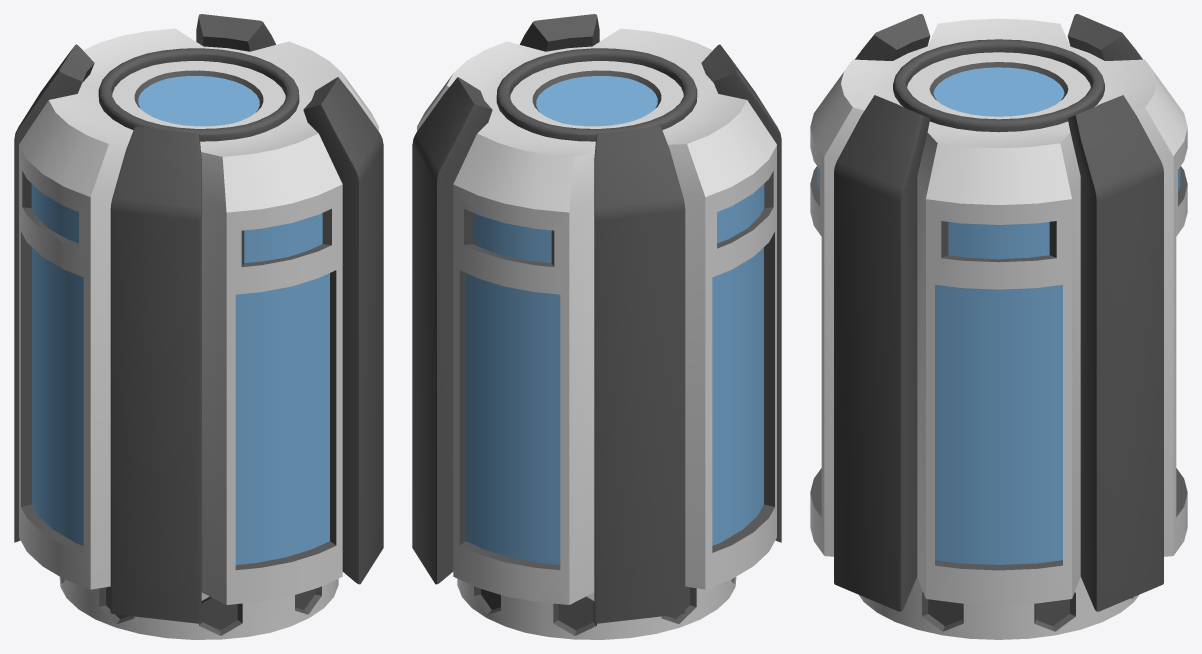
The model's file is augment_container.glb.
3 renders of one model, left to right at view 1: azimuth 30°, elevation 25°; view 2: azimuth 150°, elevation 25°; view 3: azimuth 270°, elevation 25°, orthographic.
Visible parts, largest first — view 1: AugmentContainer; view 2: AugmentContainer; view 3: AugmentContainer.
Boxes of the visible parts, box(x1,y1,x2,y2) form: AugmentContainer: box(14, 14, 383, 639); AugmentContainer: box(412, 14, 781, 639); AugmentContainer: box(810, 14, 1187, 639).
Size of the model in its own units: 0.7365 by 1.14 by 0.7556.
